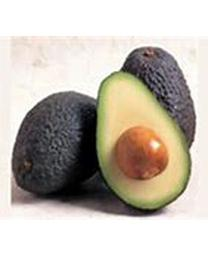avocado: (93, 68, 192, 213), (11, 88, 108, 198), (119, 44, 198, 164)
